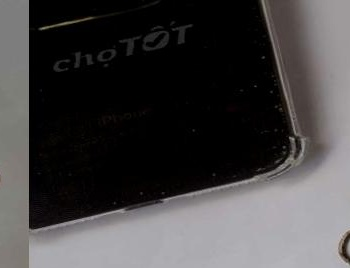scratch: (148, 0, 303, 176), (96, 165, 220, 212)
